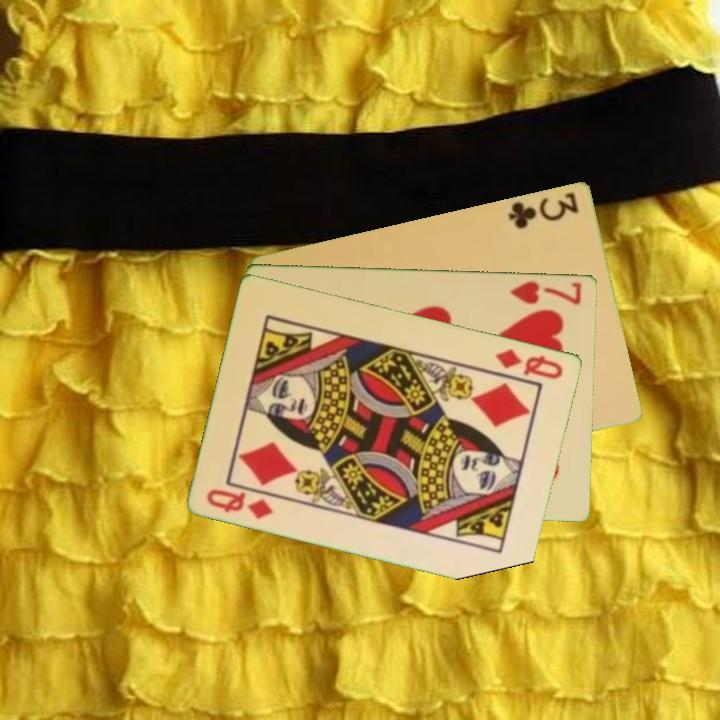3c: (505, 188, 582, 231)
7h: (507, 277, 584, 308)
Qd: (492, 344, 567, 382), (203, 485, 277, 522)
